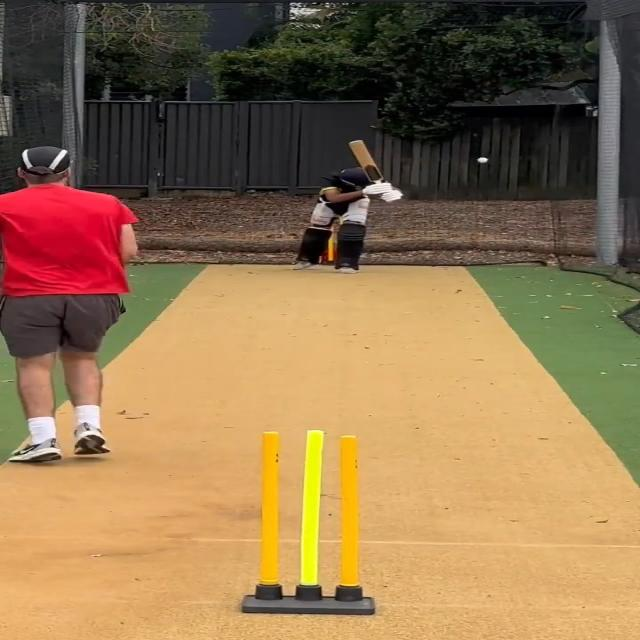ball: (476, 157, 489, 164)
stump: (235, 428, 377, 616)
